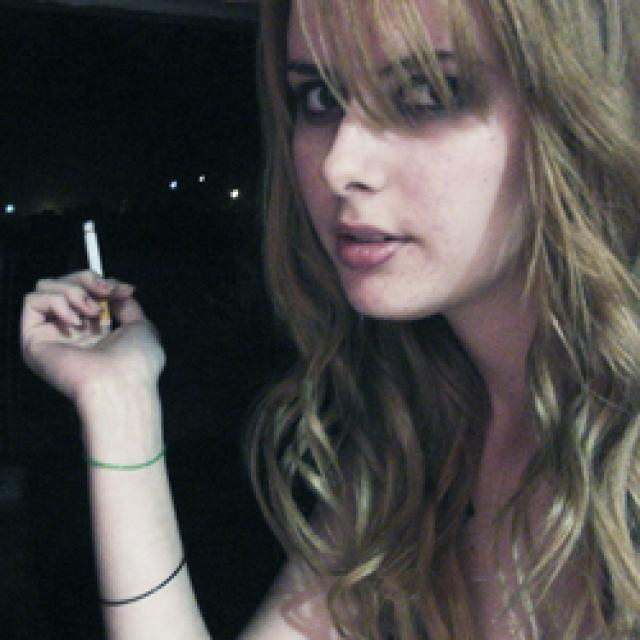Smooking: (74, 212, 126, 329)
